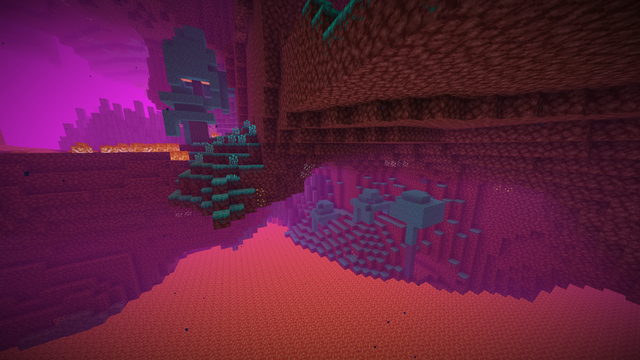nethergold: (255, 188, 265, 207), (494, 185, 514, 194)
quartz: (300, 162, 315, 180), (384, 158, 408, 168), (174, 210, 193, 217)
